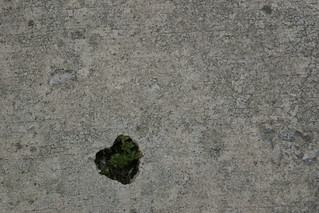Spalling: (93, 134, 142, 186)
